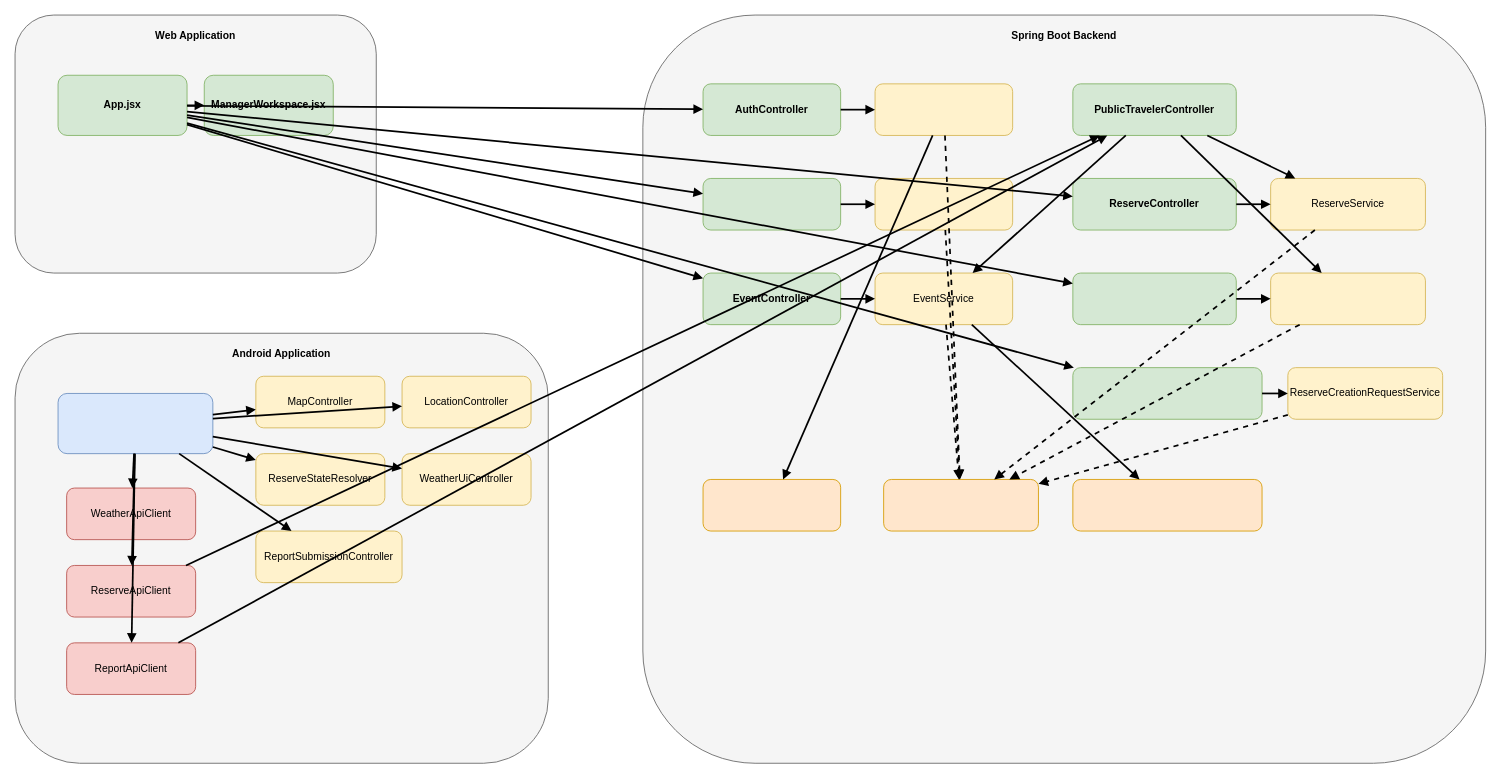
The diagram is 1501 pixels wide and 778 high, and some of its shapes have lost their labels. Here are the shapes that lost their labels. From the top down, the centre of each, then its label:
point (943, 109): AuthService
point (771, 204): AdminController
point (943, 204): AdminService
point (1154, 298): ReservePoiController
point (1347, 298): ReservePoiService
point (1167, 393): ReserveCreationRequestController
point (135, 423): MainActivity
point (771, 505): JwtService
point (960, 505): CurrentUserService
point (1167, 505): TravelerMediaStorageService
